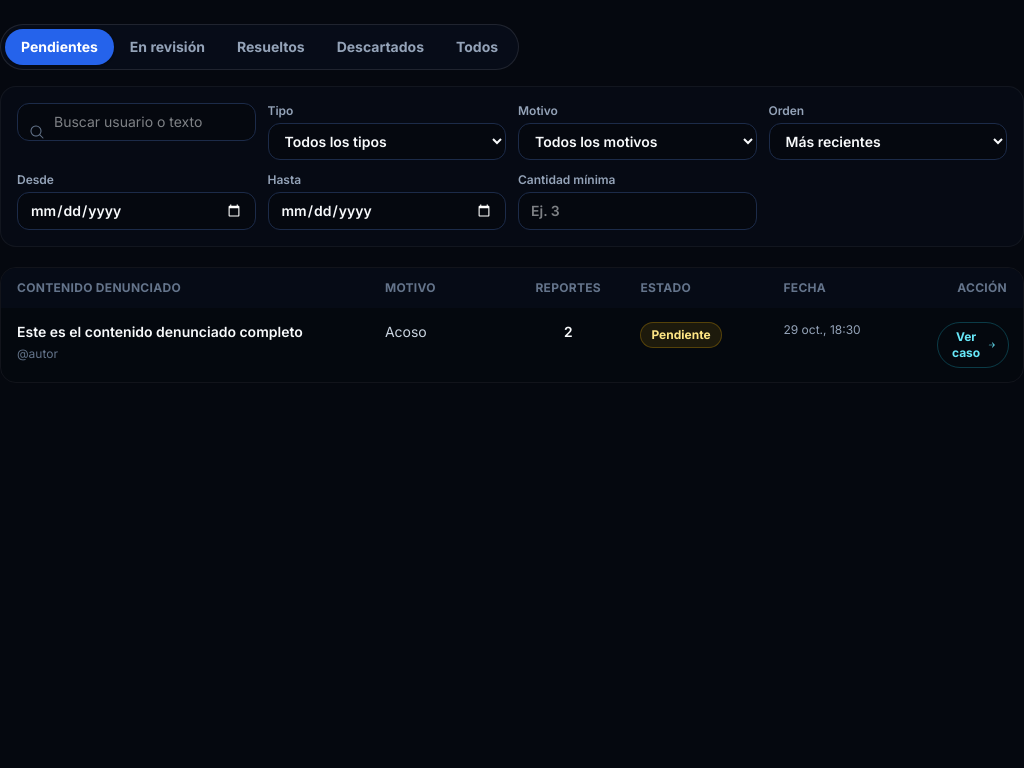
Test: ReportesSeccion › muestra el error del detalle y permite reintentar
Click the button "Ver caso" at [973, 345], box x1=937 y1=322 x2=1009 y2=368
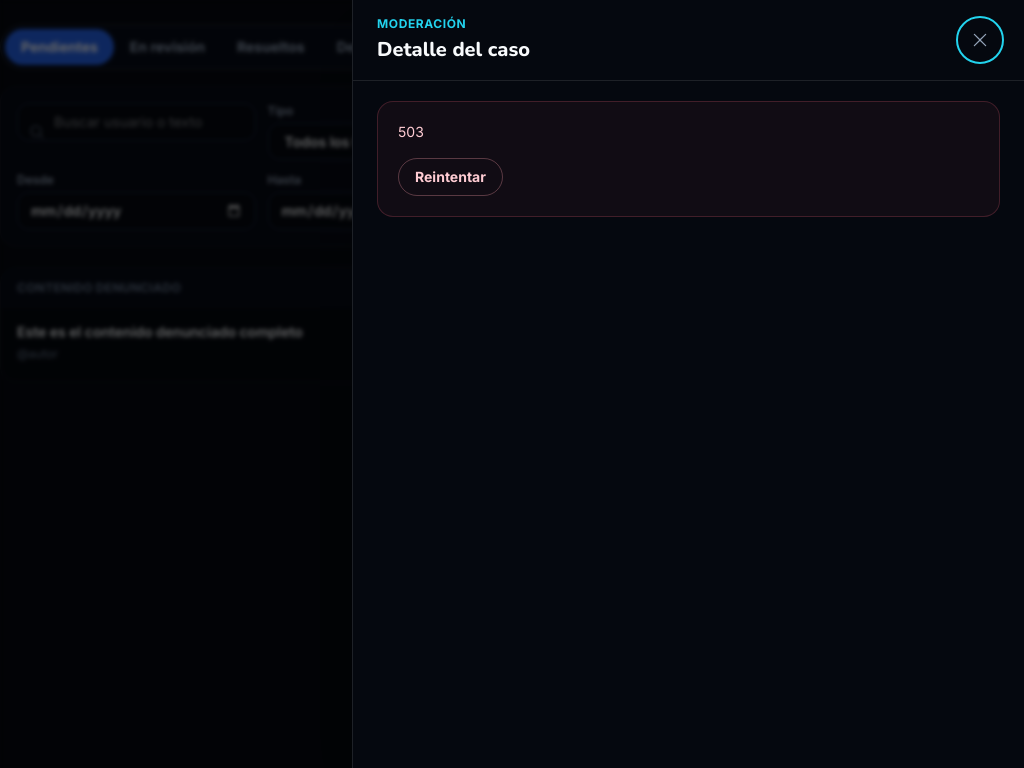
Expected: the message shows "503", x1=398 y1=123 x2=424 y2=140
Click the button "Reintentar" at [450, 177], box x1=398 y1=158 x2=503 y2=196
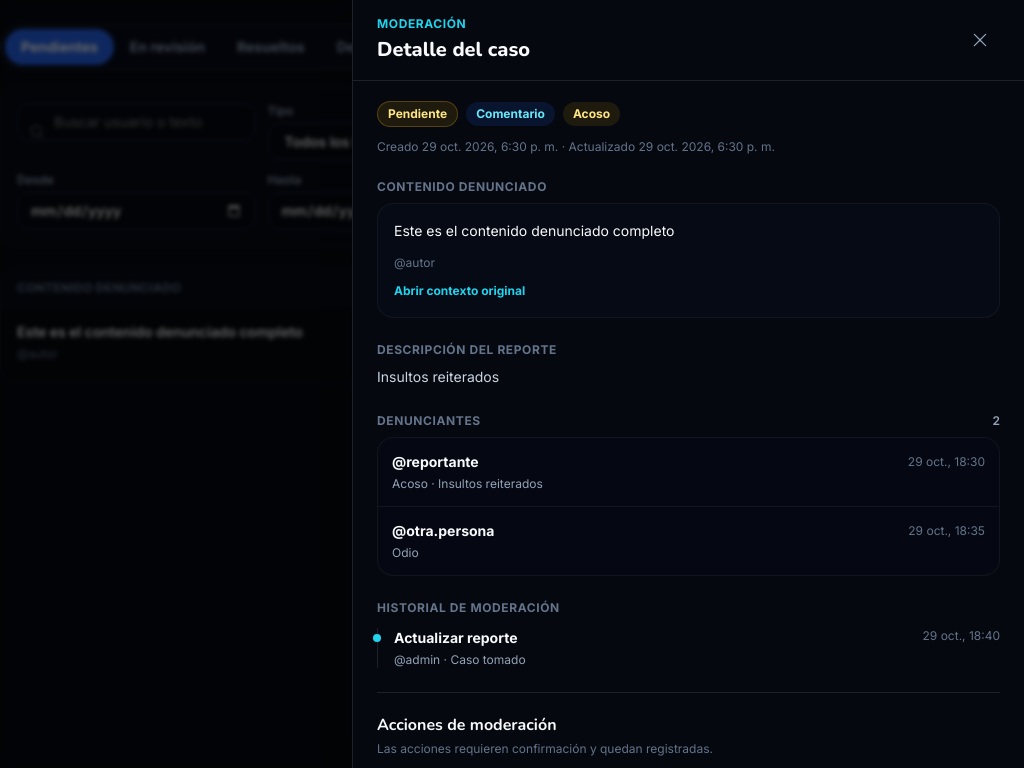
Expected: the dialog shows "Este es el contenido denunciado completo", x1=394 y1=222 x2=674 y2=239
